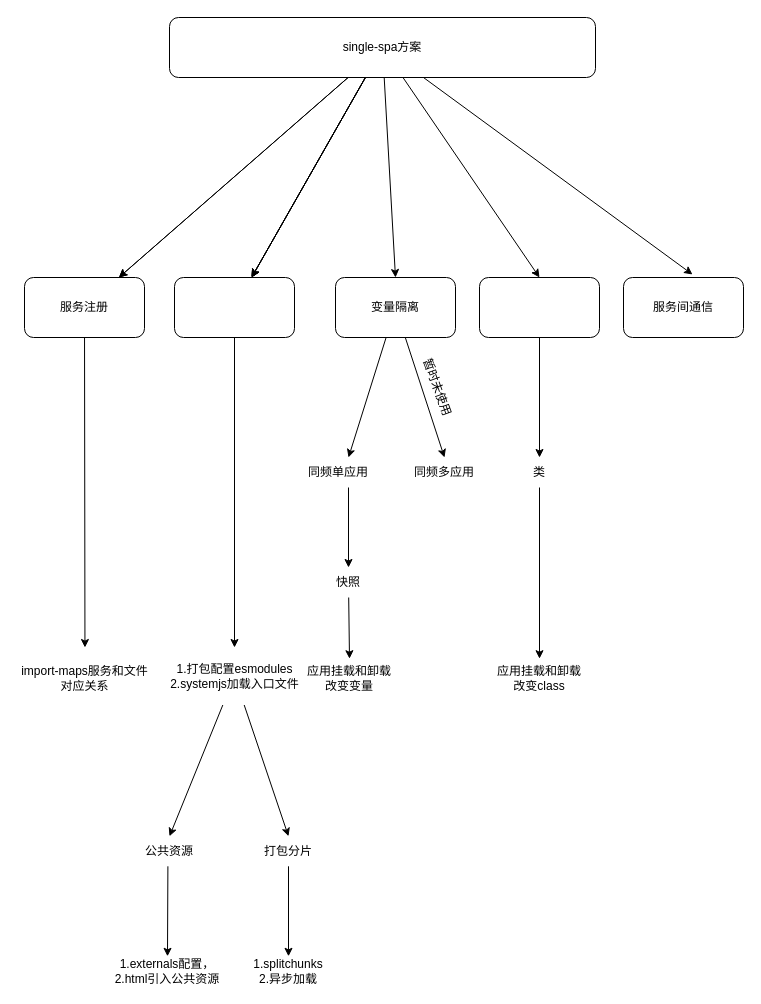
The diagram is 761 pixels wide and 1004 high, and some of its shapes have lost their labels. Each missing label, with the centre of its shape:
"服务发现" belongs at (x=234, y=307).
"样式隔离" belongs at (x=539, y=307).
